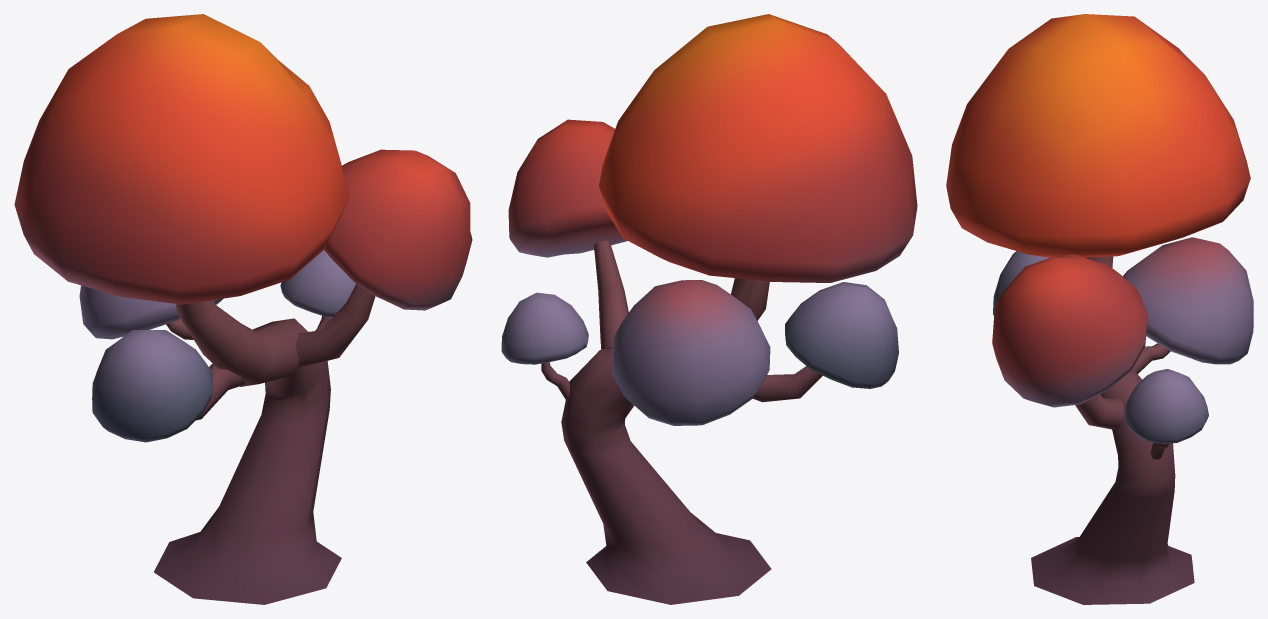
The model's file is tree_pack_19.glb.
3 views of the same model, side by side, from view 1: azimuth 30°, elevation 25°; view 2: azimuth 150°, elevation 25°; view 3: azimuth 270°, elevation 25° (orthographic). The views are drawn at different scales.
Visible parts, largest first — view 1: Tree.019; view 2: Tree.019; view 3: Tree.019.
Boxes of the visible parts, left/top/right/bottom form: Tree.019: left=14, top=14, right=472, bottom=604; Tree.019: left=501, top=14, right=917, bottom=604; Tree.019: left=946, top=14, right=1253, bottom=604.
Bounding box in the file's own units: 4.54 × 6.09 × 3.28.
1 material, 1 textured.
